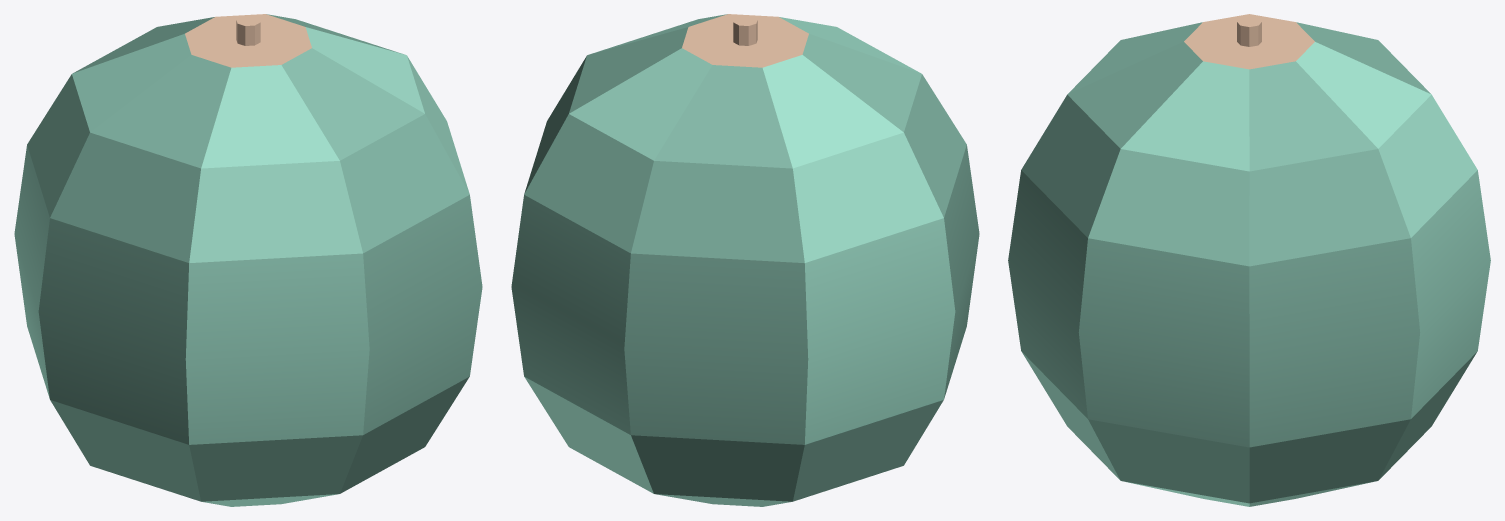
File: Watermelon.fbx
3 views of the same model, side by side, from view 1: azimuth 30°, elevation 25°; view 2: azimuth 150°, elevation 25°; view 3: azimuth 270°, elevation 25° (orthographic).
Visible parts, largest first — view 1: watermelon; view 2: watermelon; view 3: watermelon.
Part boxes in pixels (x1,y1,x2,y2): watermelon: (14, 14, 482, 506); watermelon: (511, 14, 979, 506); watermelon: (1008, 14, 1490, 506).
Bounding box in the file's own units: 45.54 × 47.61 × 45.54.
